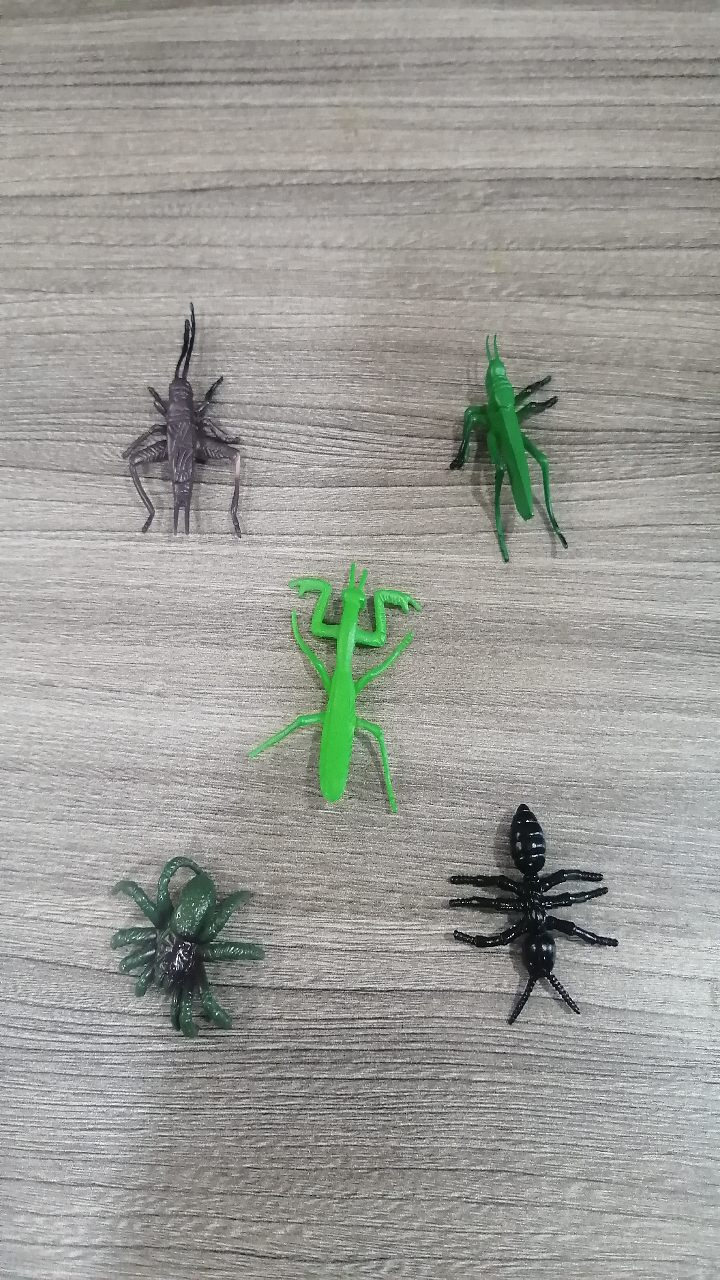intruso: (237, 545, 472, 837), (74, 271, 258, 572), (408, 306, 603, 583), (434, 774, 635, 1037), (88, 820, 303, 1055)
